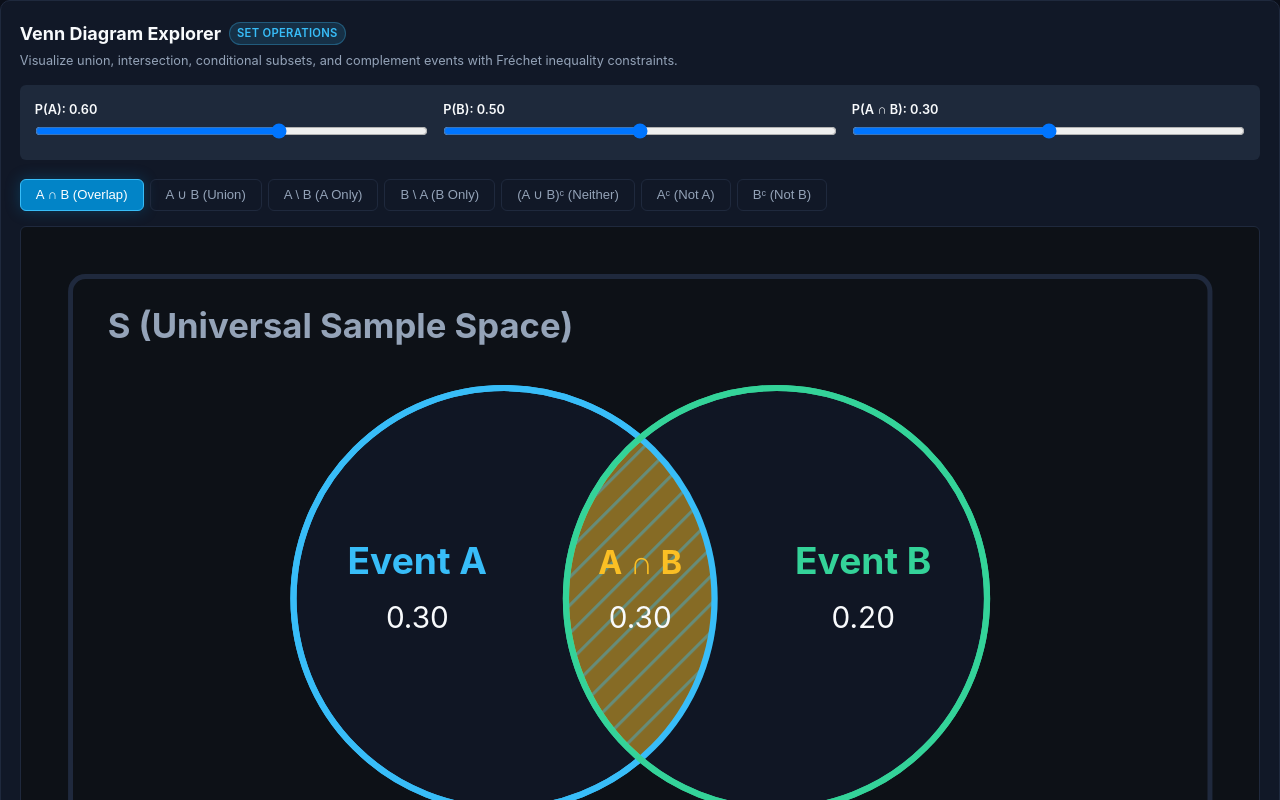
Test case: VisualsExplorer & Distribution Visuals › VennVisual displays regions and handles region selection
What coordinates should you click on to do the following:
click the button "A ∪ B (Union)"
I would click on:
 (206, 195)
Its box is left=150, top=179, right=262, bottom=211.
(page scrolled)
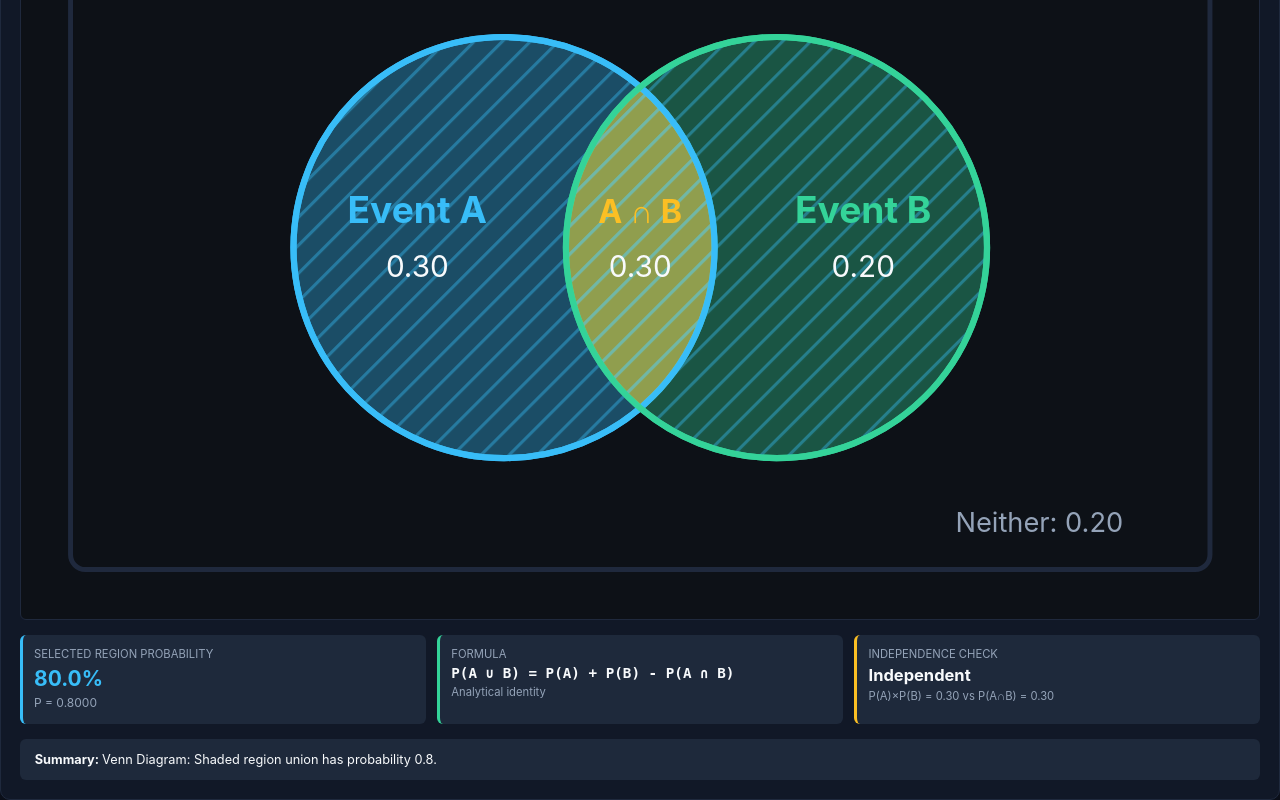
Expected: the text "Independent" is shown, left=868, top=665, right=971, bottom=685
Expected: the text "80.0%" is shown, left=34, top=666, right=103, bottom=691
Expected: the text "P(A ∪ B) = P(A) + P(B) - P(A ∩ B)" is shown, left=451, top=665, right=734, bottom=681
